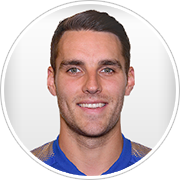smile: (75, 98, 110, 113)
